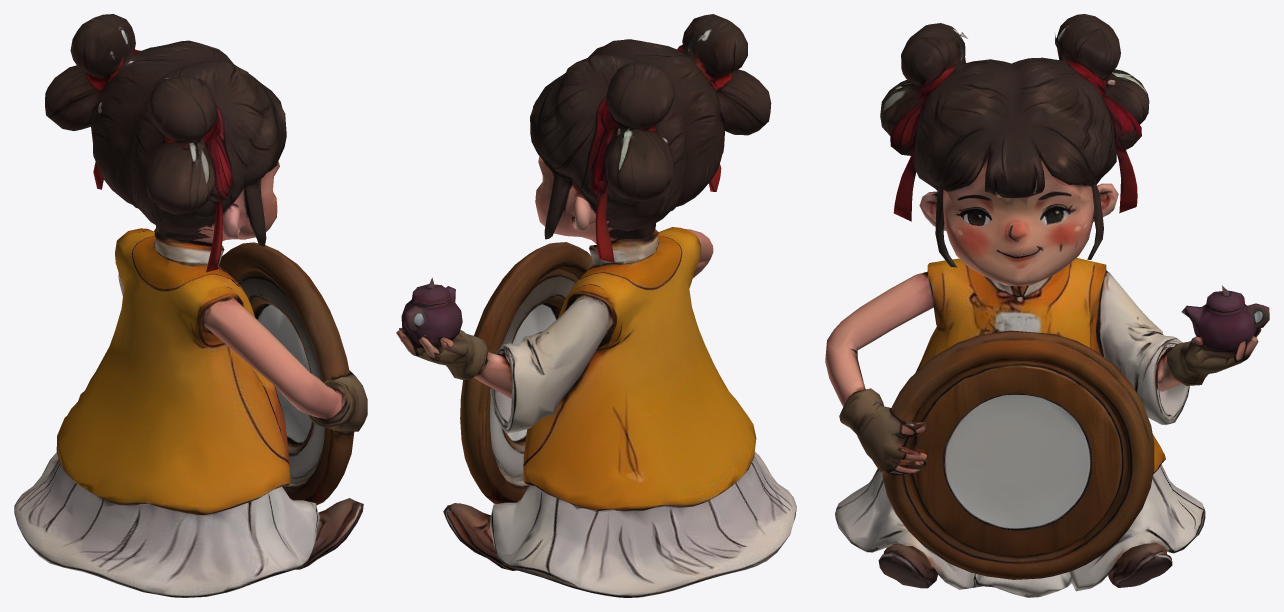
Rendered from n_w19_ming_teahouse.glb.
The picture shows the model from 3 angles, left to right: view 1: azimuth 30°, elevation 25°; view 2: azimuth 150°, elevation 25°; view 3: azimuth 270°, elevation 25°; orthographic projection.
Visible parts, largest first — view 1: tripo_node_df42d8b8-a5ce-4db1-941a-fdd4d775d36c; view 2: tripo_node_df42d8b8-a5ce-4db1-941a-fdd4d775d36c; view 3: tripo_node_df42d8b8-a5ce-4db1-941a-fdd4d775d36c.
Part boxes in pixels (x1,y1,x2,y2): tripo_node_df42d8b8-a5ce-4db1-941a-fdd4d775d36c: (14, 14, 367, 597); tripo_node_df42d8b8-a5ce-4db1-941a-fdd4d775d36c: (396, 14, 796, 597); tripo_node_df42d8b8-a5ce-4db1-941a-fdd4d775d36c: (825, 14, 1269, 597).
Size of the model in its own units: 0.5358 by 1 by 0.7781.
1 material, 1 textured.
